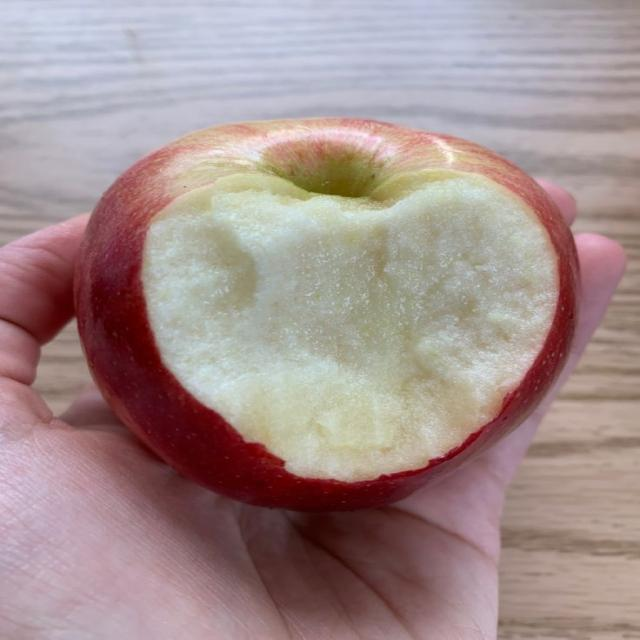apple: (76, 119, 577, 510)
